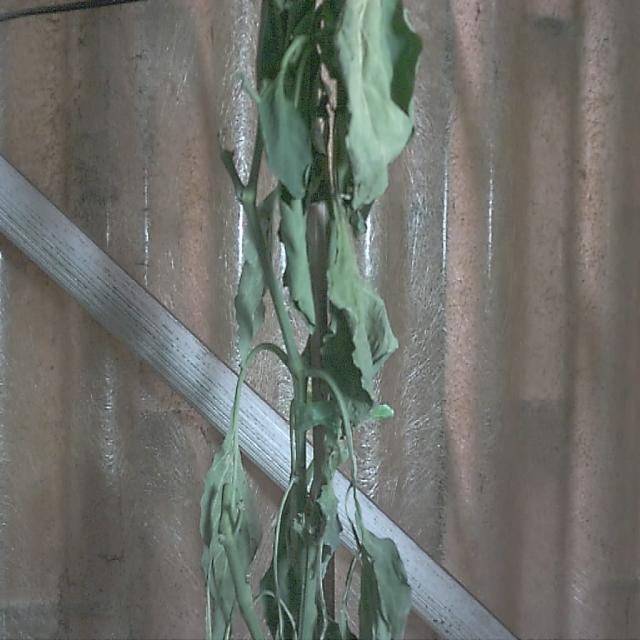Leaf: (334, 2, 423, 207), (327, 216, 400, 426), (197, 425, 262, 640), (260, 72, 312, 198), (359, 525, 414, 640)
